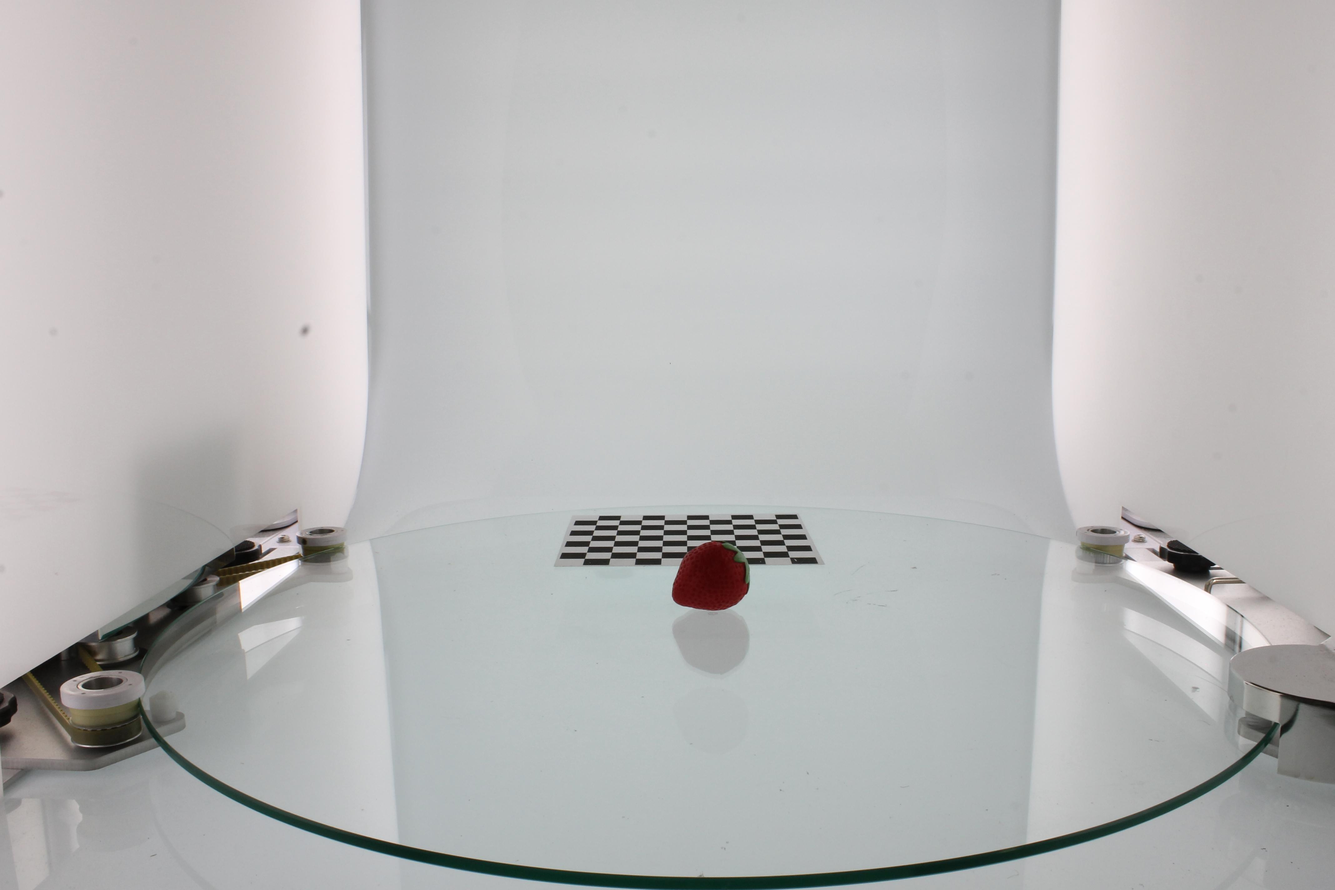strawberry: (672, 541, 748, 611)
